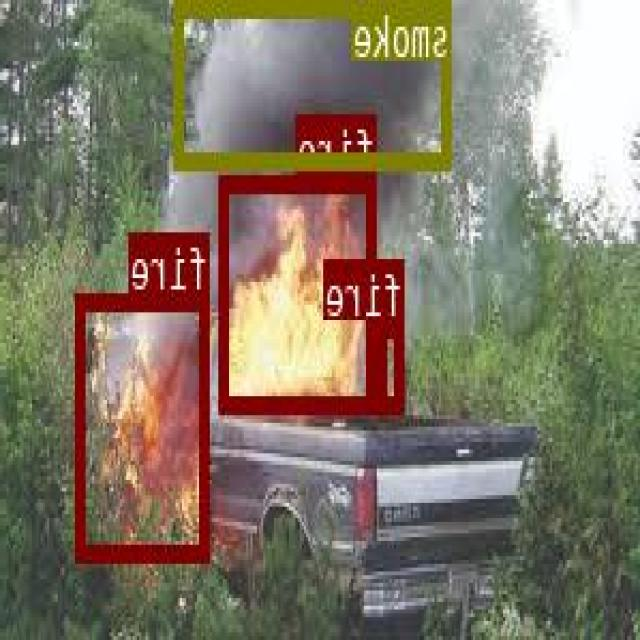fire: (222, 172, 378, 410), (79, 291, 210, 558), (380, 318, 406, 410)
smoke: (178, 0, 454, 168)
